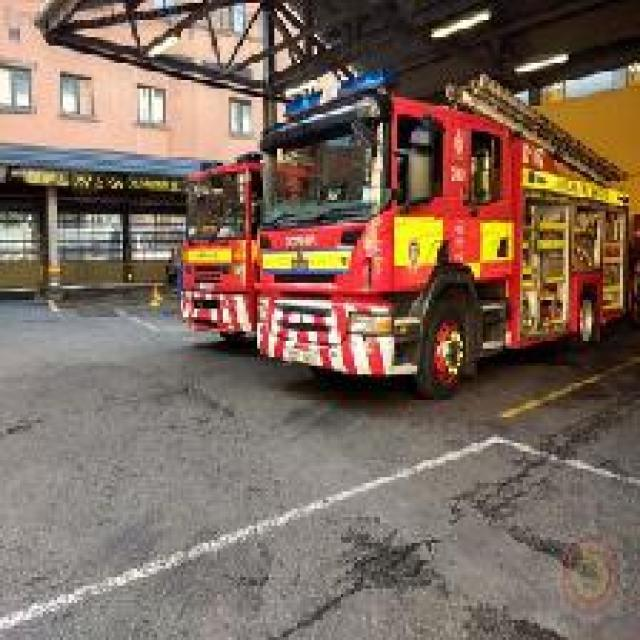emergency: (252, 73, 636, 400), (180, 148, 460, 358)
